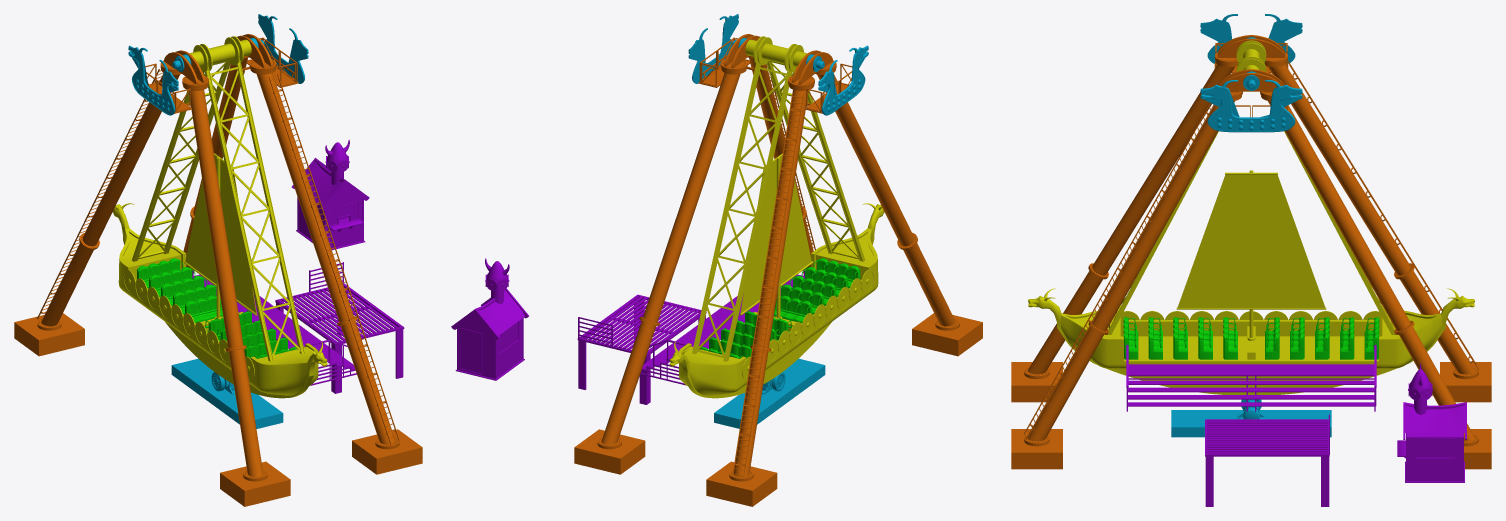
Rendered from Ship_attraction.fbx.
The picture shows the model from 3 angles, left to right: view 1: azimuth 30°, elevation 25°; view 2: azimuth 150°, elevation 25°; view 3: azimuth 270°, elevation 25°; orthographic projection. The views are drawn at different scales.
Parts seen in each view (by area): view 1: Ship_attraction_1, Ship_attraction_1_1, Ship_attraction_1_2, Ship_attraction_1_4_1, Ship_attraction_1_3, Ship_attraction_1_1_1; view 2: Ship_attraction_1, Ship_attraction_1_4_1, Ship_attraction_1_2, Ship_attraction_1_1, Ship_attraction_1_3, Ship_attraction_1_1_1; view 3: Ship_attraction_1, Ship_attraction_1_3, Ship_attraction_1_2, Ship_attraction_1_4_1, Ship_attraction_1_1, Ship_attraction_1_1_1.
Boxes of the visible parts, box(x1,y1,x2,y2) form: Ship_attraction_1: box(14, 14, 422, 506); Ship_attraction_1_1: box(137, 258, 296, 358); Ship_attraction_1_2: box(275, 262, 404, 393); Ship_attraction_1_4_1: box(291, 139, 369, 250); Ship_attraction_1_3: box(192, 269, 356, 385); Ship_attraction_1_1_1: box(137, 260, 288, 358); Ship_attraction_1: box(574, 14, 982, 506); Ship_attraction_1_4_1: box(451, 258, 528, 380); Ship_attraction_1_2: box(577, 294, 706, 404); Ship_attraction_1_1: box(700, 258, 860, 358); Ship_attraction_1_3: box(640, 269, 804, 385); Ship_attraction_1_1_1: box(702, 260, 859, 358); Ship_attraction_1: box(1011, 14, 1491, 469); Ship_attraction_1_3: box(1126, 345, 1376, 411); Ship_attraction_1_2: box(1205, 414, 1329, 506); Ship_attraction_1_4_1: box(1397, 363, 1466, 482); Ship_attraction_1_1: box(1123, 317, 1379, 359); Ship_attraction_1_1_1: box(1126, 317, 1376, 347).
Size of the model in its own units: 1813 by 2001 by 2310.
